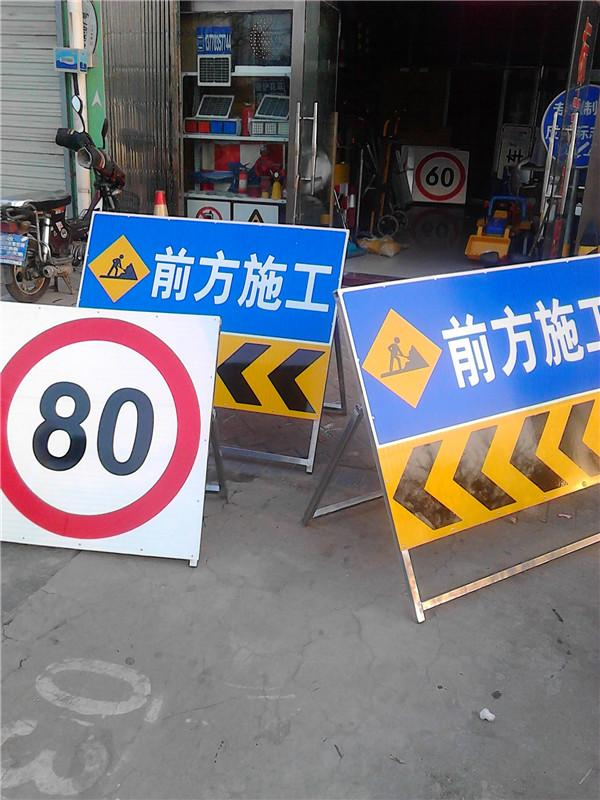sign: (354, 296, 600, 592), (90, 217, 334, 336)
